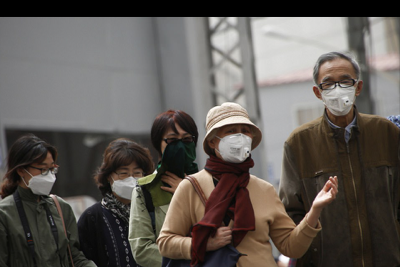with_mask: (317, 72, 358, 115), (213, 124, 250, 162), (109, 162, 144, 200), (158, 130, 196, 165), (21, 159, 57, 194)
